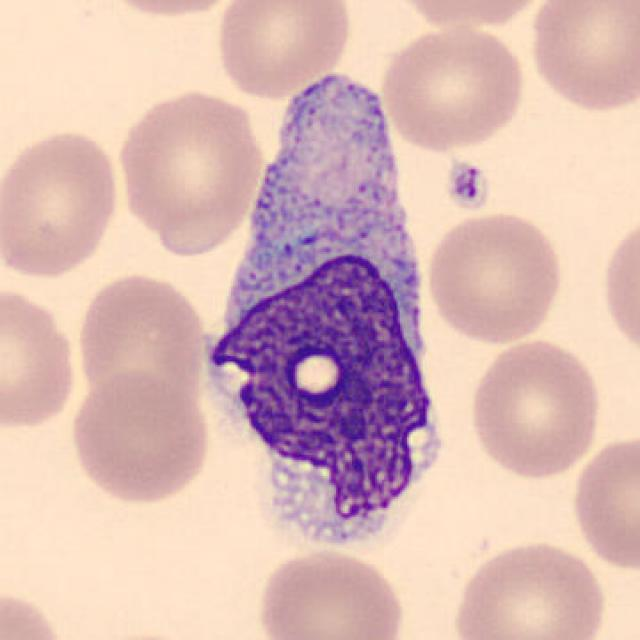Monocyte: (194, 70, 464, 571)
Platelets: (442, 158, 490, 212)
RBC: (112, 85, 268, 252), (71, 268, 210, 423), (66, 367, 213, 508), (377, 20, 530, 154), (423, 206, 567, 348), (464, 335, 604, 481), (0, 125, 124, 282), (448, 534, 610, 640), (252, 545, 409, 640), (211, 0, 355, 100), (524, 0, 638, 116), (0, 280, 82, 432), (567, 430, 638, 575), (597, 208, 640, 365), (384, 0, 560, 30), (0, 583, 71, 640), (90, 0, 252, 19)
